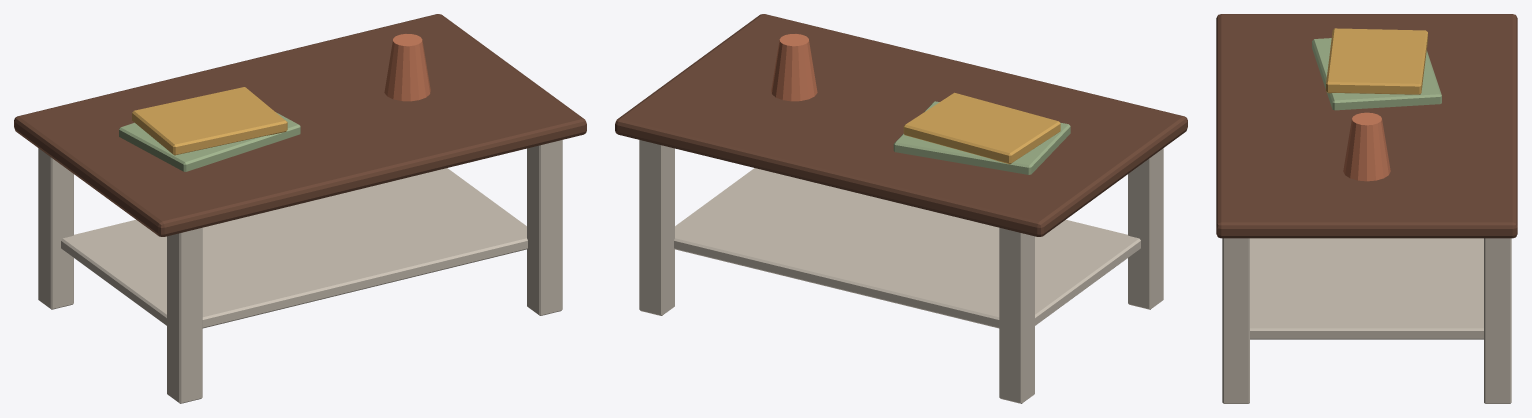
Rendered from sc_coffee_table.glb.
3 renders of one model, left to right at view 1: azimuth 30°, elevation 25°; view 2: azimuth 150°, elevation 25°; view 3: azimuth 270°, elevation 25°, orthographic.
Parts seen in each view (by area): view 1: coffee_table; view 2: coffee_table; view 3: coffee_table.
Part boxes in pixels (bbox=[...]): coffee_table: bbox=[14, 14, 586, 403]; coffee_table: bbox=[615, 14, 1187, 403]; coffee_table: bbox=[1216, 14, 1517, 403].
Bounding box in the file's own units: 1 × 0.535 × 0.6.
